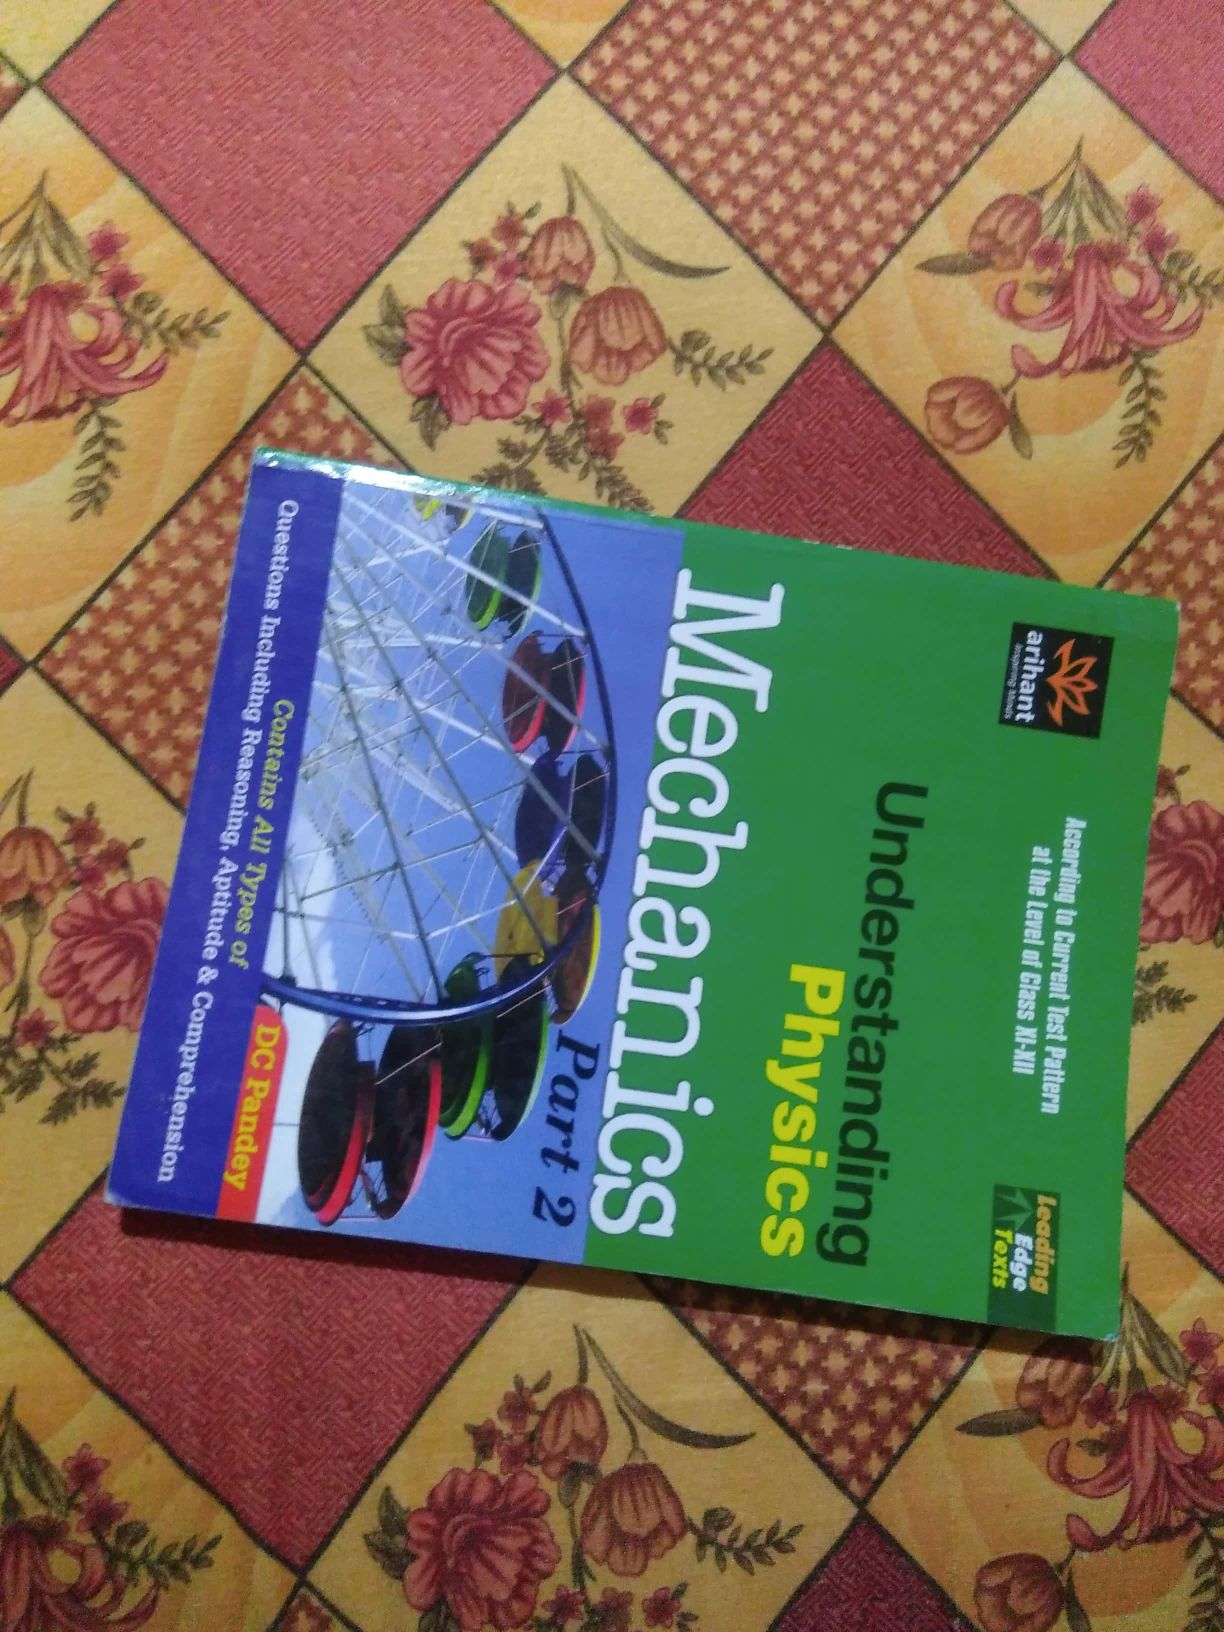mechanics: (122, 412, 1220, 1388)
